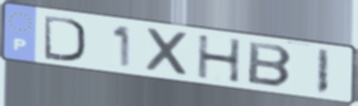1: (109, 24, 132, 69)
B: (245, 39, 296, 89)
D: (42, 13, 89, 64)
H: (195, 33, 244, 85)
I: (314, 47, 332, 97)
X: (144, 25, 193, 79)
